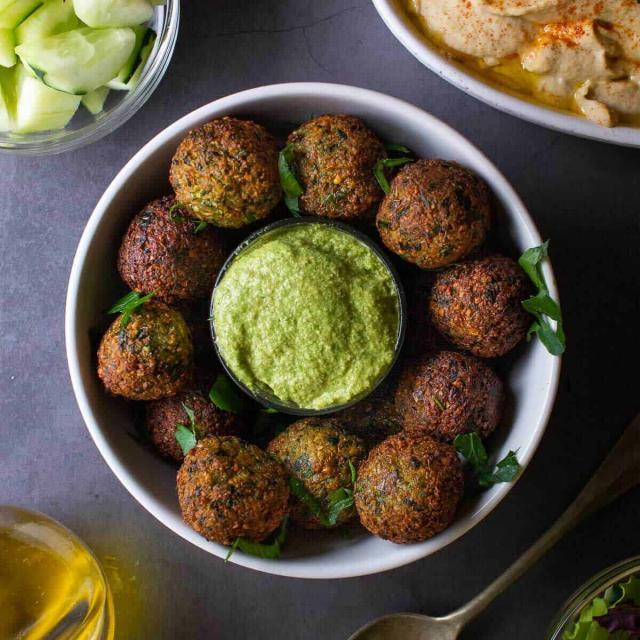flafel: (176, 434, 292, 548), (376, 152, 489, 268), (172, 112, 276, 236), (351, 431, 465, 542), (93, 296, 189, 404)
